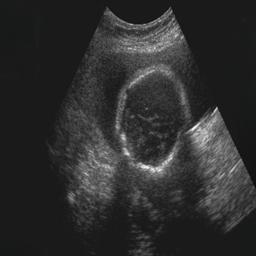abnormal: (113, 66, 192, 176)
